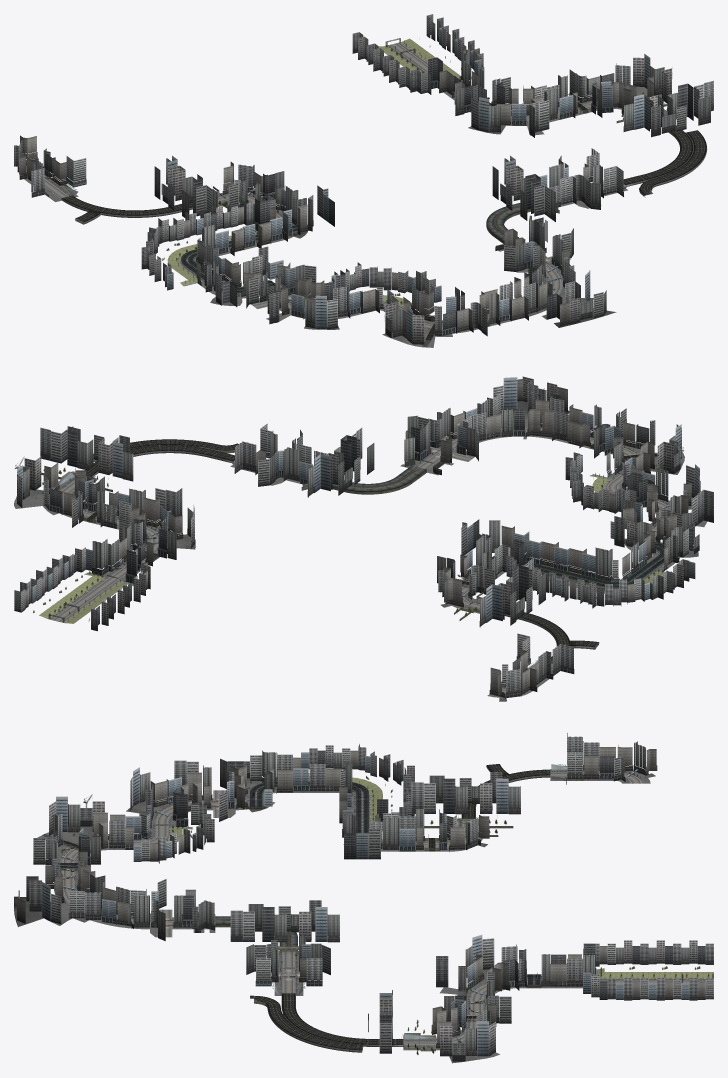
File: chi.glb
The picture shows the model from 3 angles, top to bottom: view 1: azimuth 30°, elevation 25°; view 2: azimuth 150°, elevation 25°; view 3: azimuth 270°, elevation 25°; orthographic projection. The views are drawn at different scales.
Parts seen in each view (by area): view 1: Object_9, Object_7, Object_11, Object_13; view 2: Object_9, Object_7, Object_11, Object_13; view 3: Object_9, Object_7, Object_11, Object_13.
Boxes of the visible parts, <box> form: Object_9: <box>14,14,713,347</box>; Object_7: <box>34,43,653,329</box>; Object_11: <box>26,38,672,330</box>; Object_13: <box>23,42,624,330</box>; Object_9: <box>14,376,713,701</box>; Object_7: <box>51,428,670,693</box>; Object_11: <box>14,388,684,688</box>; Object_13: <box>51,419,670,689</box>; Object_9: <box>14,732,713,1063</box>; Object_7: <box>62,772,705,1052</box>; Object_11: <box>57,762,713,1054</box>; Object_13: <box>54,765,705,1046</box>.
Bounding box in the file's own units: 2852 × 179 × 2740.
4 materials, 4 textured.
